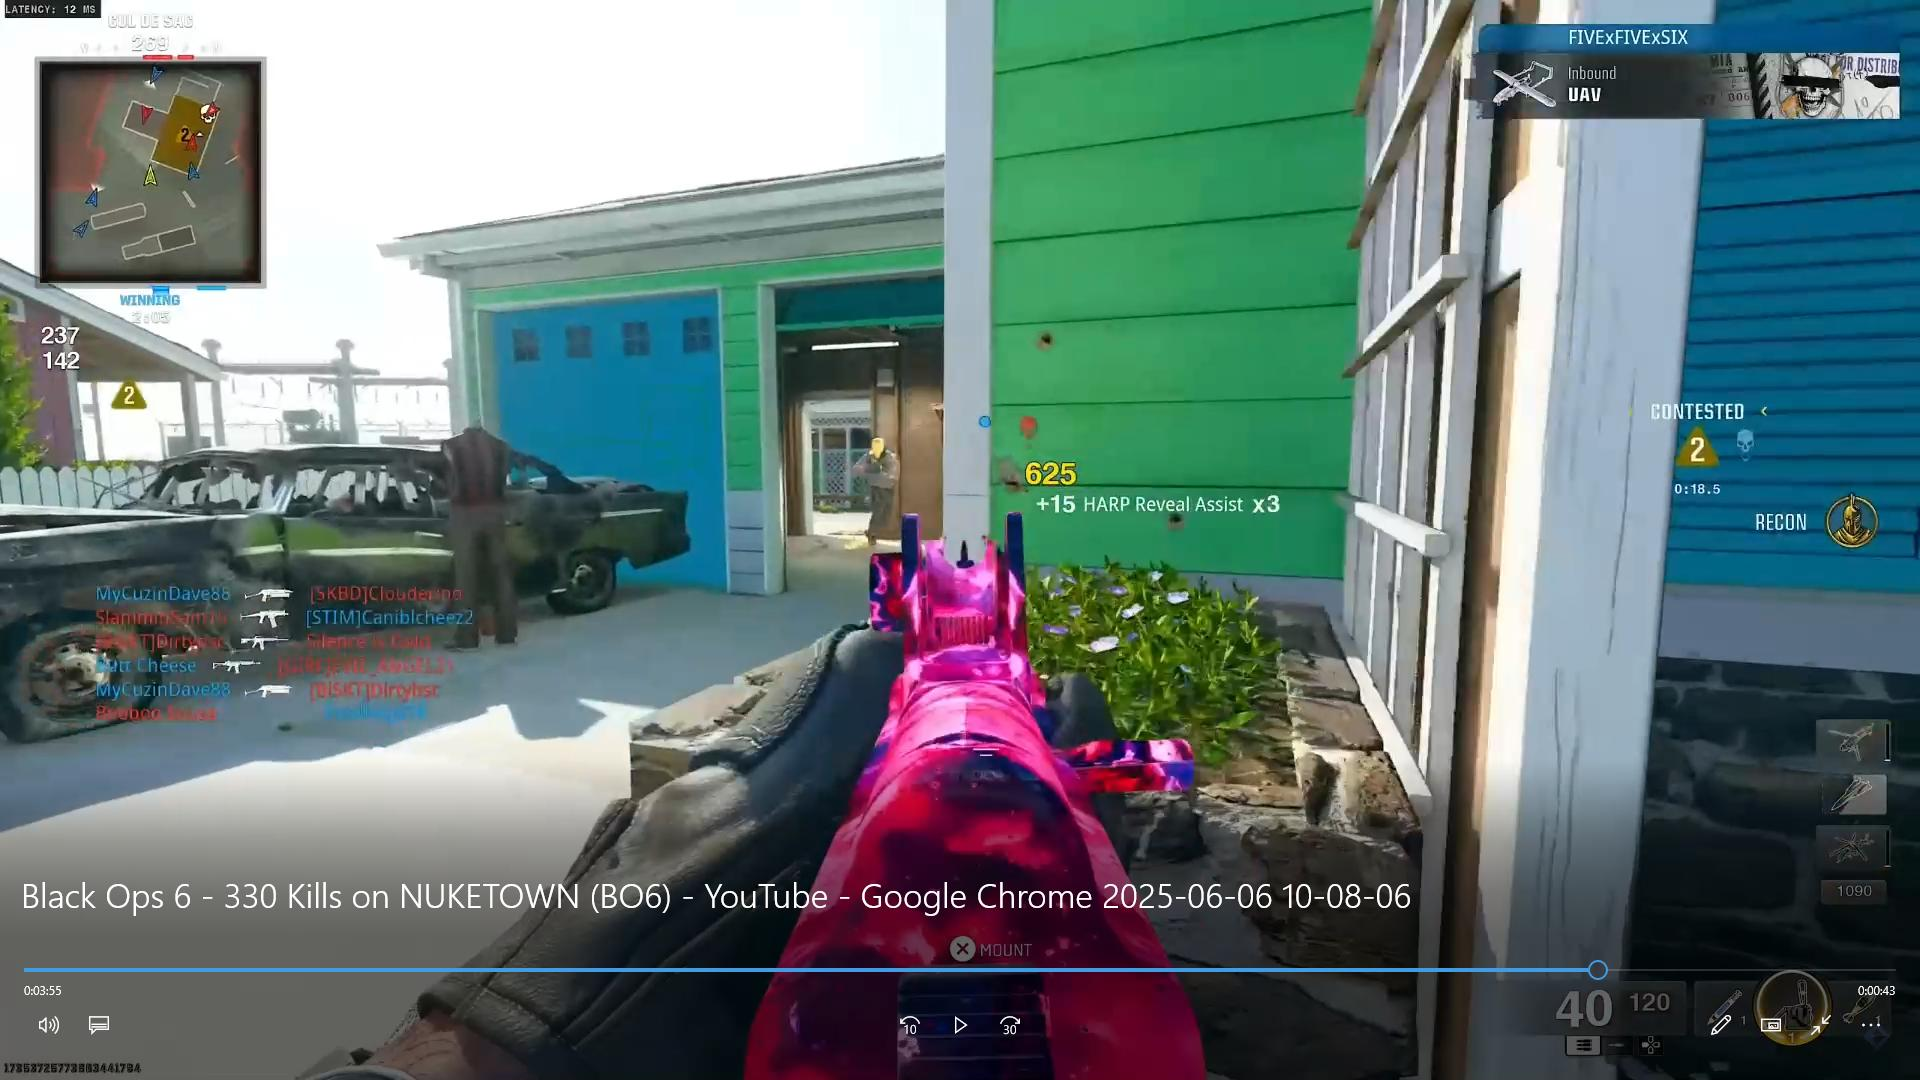Enemy: (841, 431, 913, 534)
